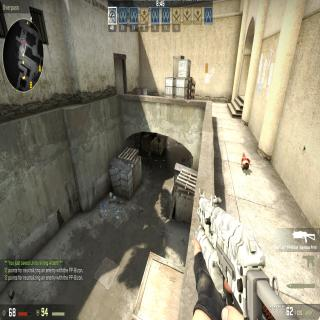CT-Body: (147, 146, 152, 170)
CT-Head: (147, 146, 150, 151)
